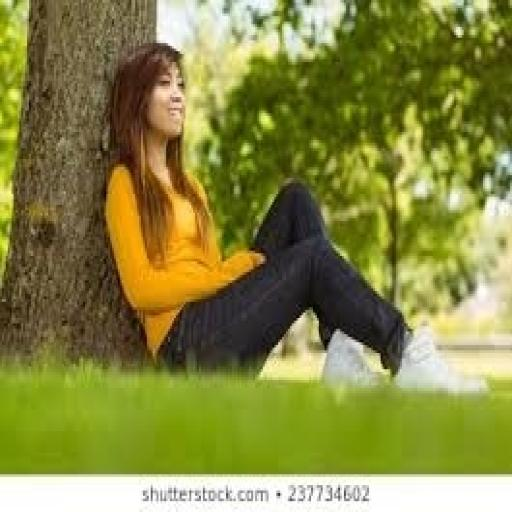sitting: (100, 38, 489, 396)
